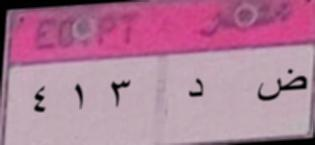1: (68, 77, 94, 121)
3: (108, 77, 133, 118)
4: (27, 82, 52, 122)
daad: (252, 68, 309, 110)
daal: (185, 72, 209, 105)
